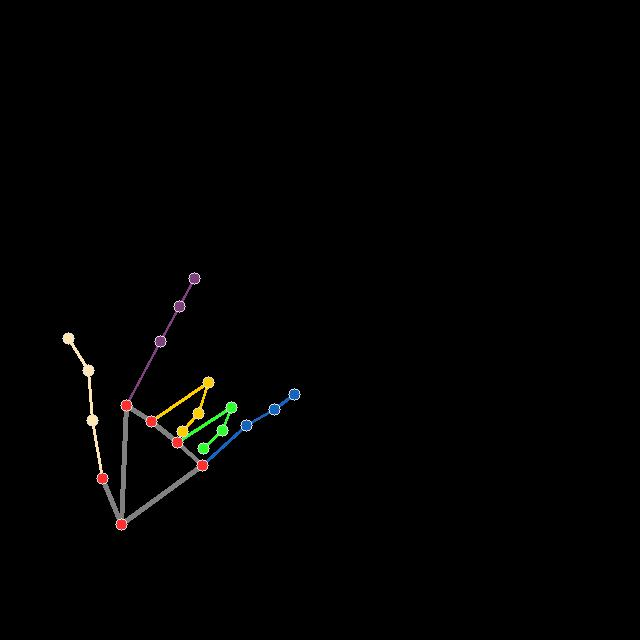spiderman: (63, 273, 301, 531)
